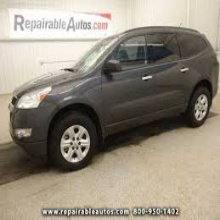no damage: (9, 26, 220, 170)
